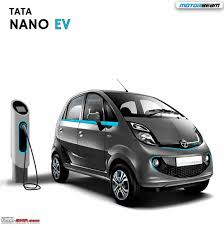Nano: (47, 89, 215, 204)
